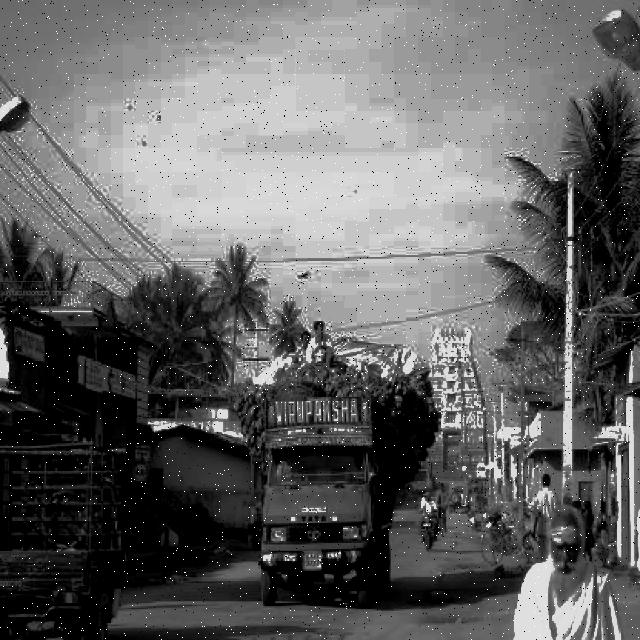HCV: (263, 378, 392, 594)
